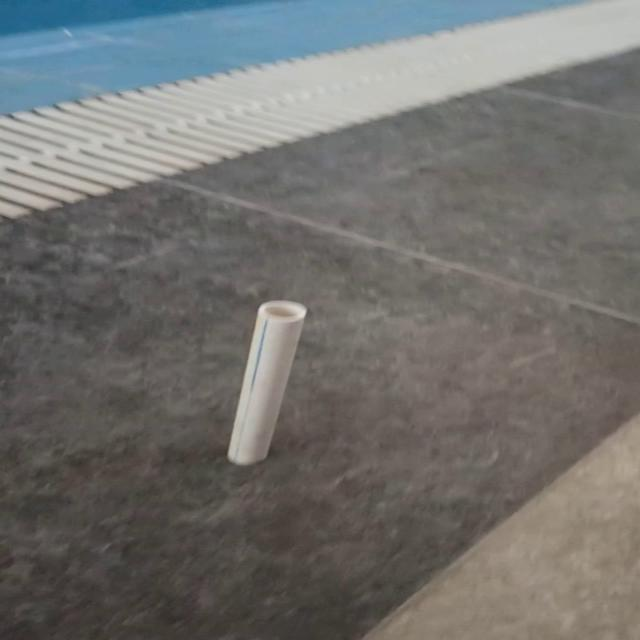Cube: (225, 299, 307, 465)
